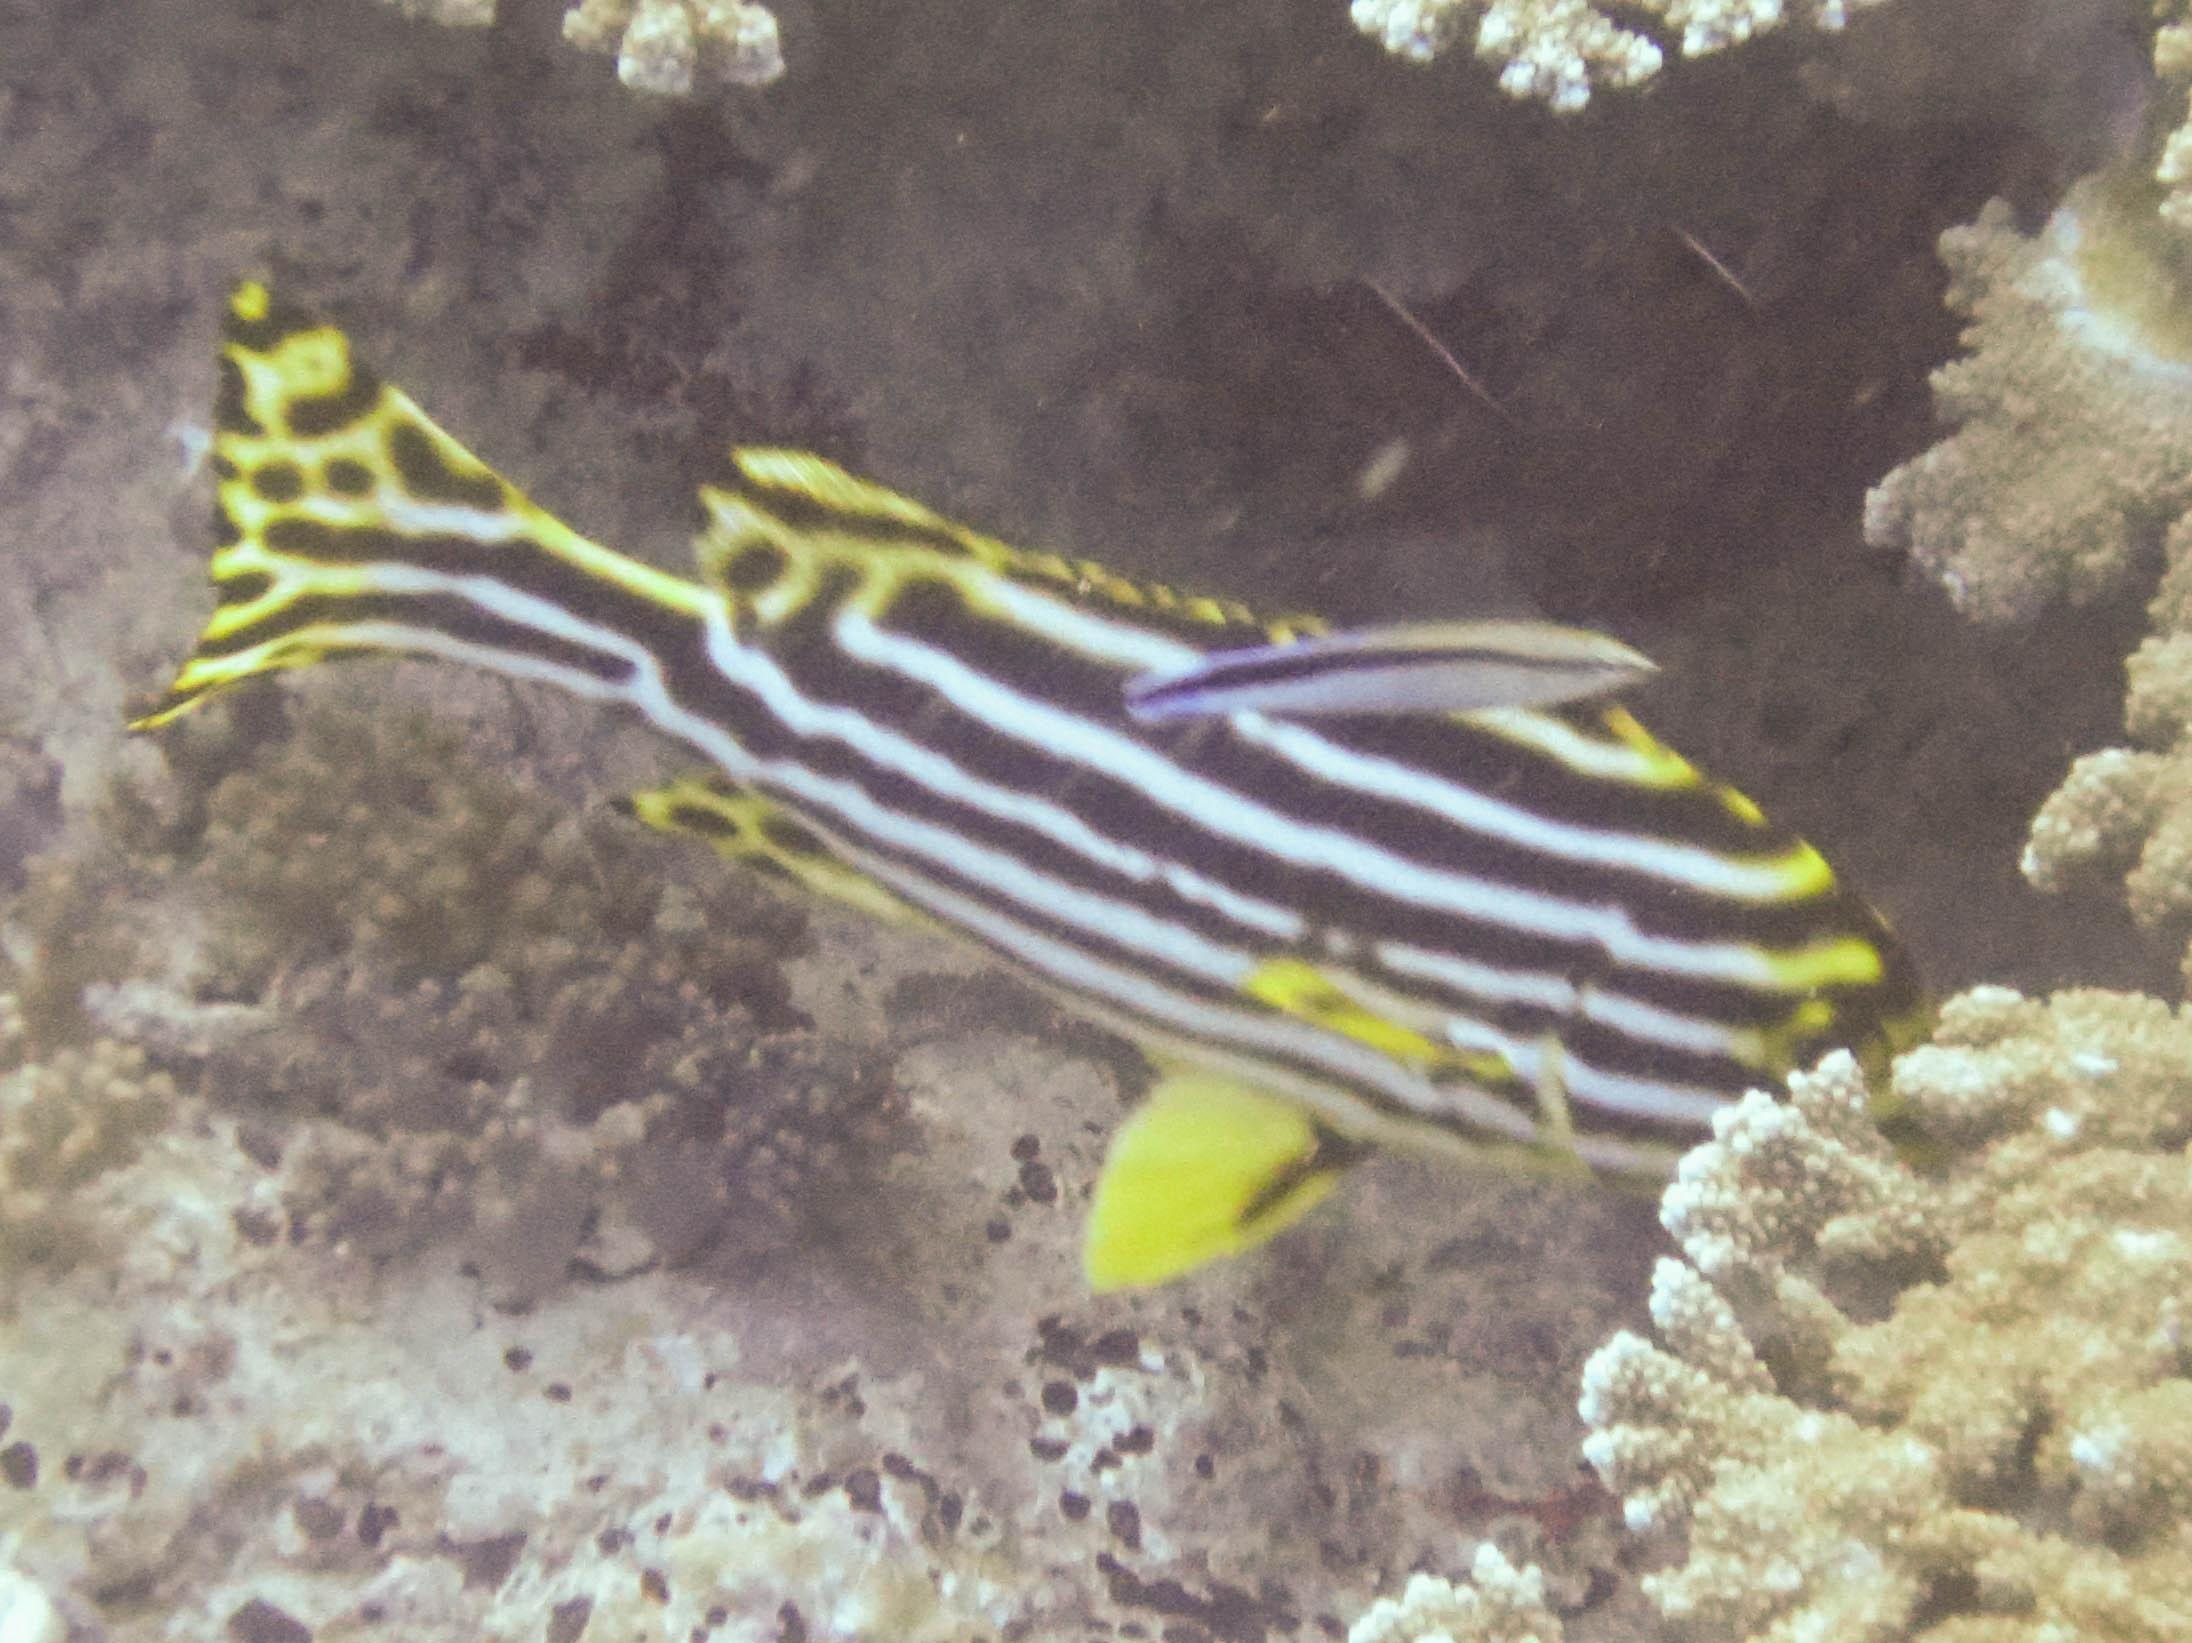Fish: (212, 257, 1985, 1341)
